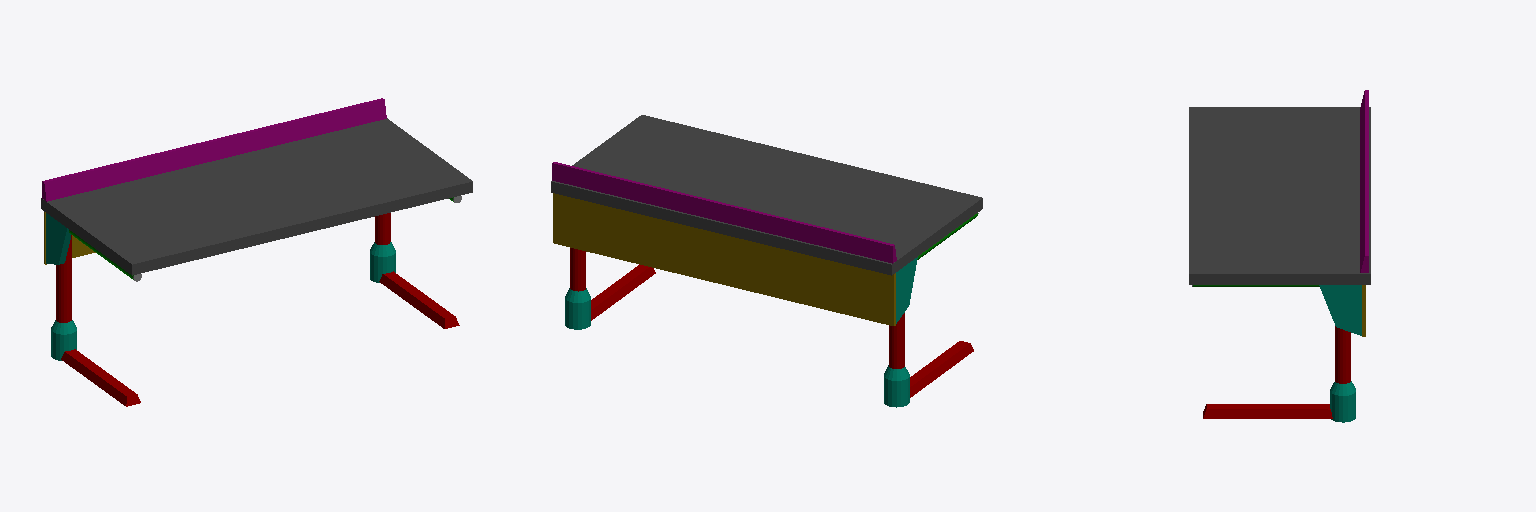
The model's file is School_Table.obj.
3 views of the same model, side by side, from view 1: azimuth 30°, elevation 25°; view 2: azimuth 150°, elevation 25°; view 3: azimuth 270°, elevation 25° (orthographic).
Visible parts, largest first — view 1: Box001, Box003, Box008, Box007, Cylinder004, Box005, Cylinder003, Cylinder006; view 2: Box001, Box002, Box003, Box007, Box008, Cylinder006, Cylinder003, Box005, Cylinder004, Cylinder005; view 3: Box001, Box008, Box003, Box006, Cylinder006, Cylinder005.
Part boxes in pixels (x1,y1,x2,y2): Box001: (41, 118, 472, 275); Box003: (42, 98, 386, 201); Box008: (379, 271, 459, 328); Box007: (61, 349, 140, 406); Cylinder004: (56, 235, 71, 322); Box005: (46, 213, 70, 264); Cylinder003: (51, 320, 76, 360); Cylinder006: (370, 242, 395, 282); Box001: (551, 115, 982, 275); Box002: (553, 193, 895, 325); Box003: (552, 162, 896, 263); Box007: (910, 341, 973, 397); Box008: (591, 264, 655, 320); Cylinder006: (565, 288, 590, 329); Cylinder003: (884, 365, 909, 407); Box005: (896, 257, 917, 323); Cylinder004: (889, 313, 904, 368); Cylinder005: (570, 248, 585, 291); Box001: (1189, 107, 1370, 284); Box008: (1203, 404, 1332, 418); Box003: (1360, 90, 1368, 272); Box006: (1319, 285, 1361, 335); Cylinder006: (1330, 381, 1355, 422); Cylinder005: (1335, 326, 1350, 383).
Bounding box in the file's own units: 42.36 × 19.73 × 19.49.